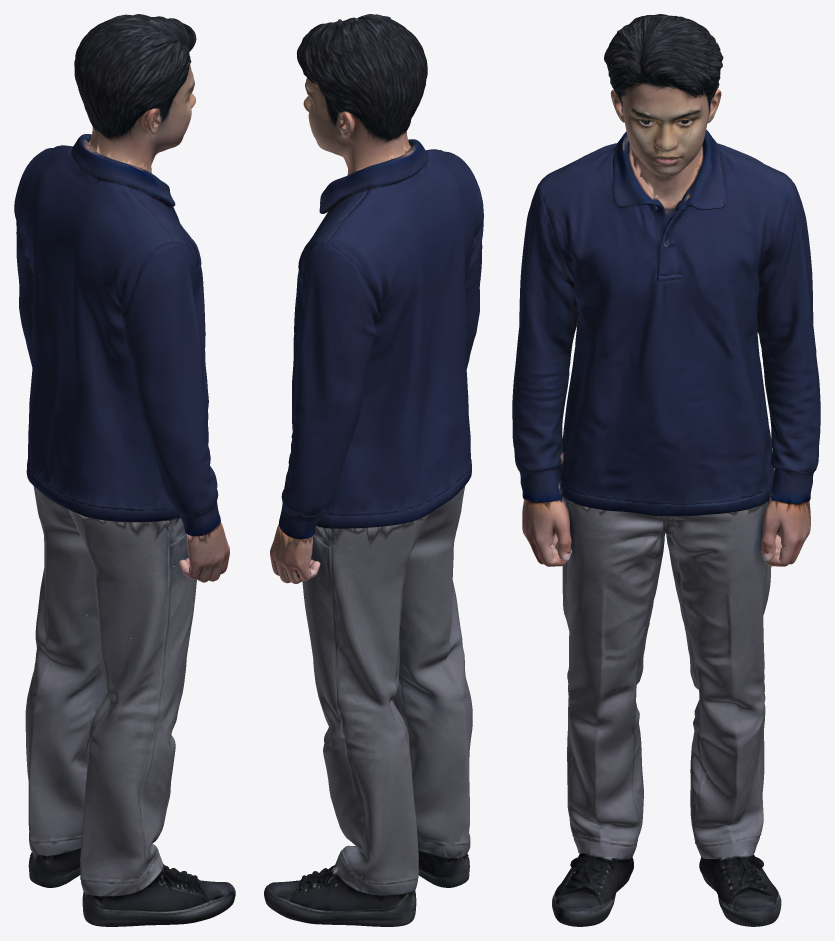
The model's file is karakter-opt.glb.
3 renders of one model, left to right at view 1: azimuth 30°, elevation 25°; view 2: azimuth 150°, elevation 25°; view 3: azimuth 270°, elevation 25°, orthographic. The views are drawn at different scales.
Visible parts, largest first — view 1: tripo_node_bf08eb04-f898-4b3f-bf11-83397ed94f87; view 2: tripo_node_bf08eb04-f898-4b3f-bf11-83397ed94f87; view 3: tripo_node_bf08eb04-f898-4b3f-bf11-83397ed94f87.
Boxes of the visible parts, bbox=[...] form: tripo_node_bf08eb04-f898-4b3f-bf11-83397ed94f87: bbox=[14, 14, 235, 926]; tripo_node_bf08eb04-f898-4b3f-bf11-83397ed94f87: bbox=[264, 14, 483, 926]; tripo_node_bf08eb04-f898-4b3f-bf11-83397ed94f87: bbox=[512, 14, 820, 926].
Bounding box in the file's own units: 0.1749 × 0.9807 × 0.3081.
Materials: 1 (1 with a texture image).
